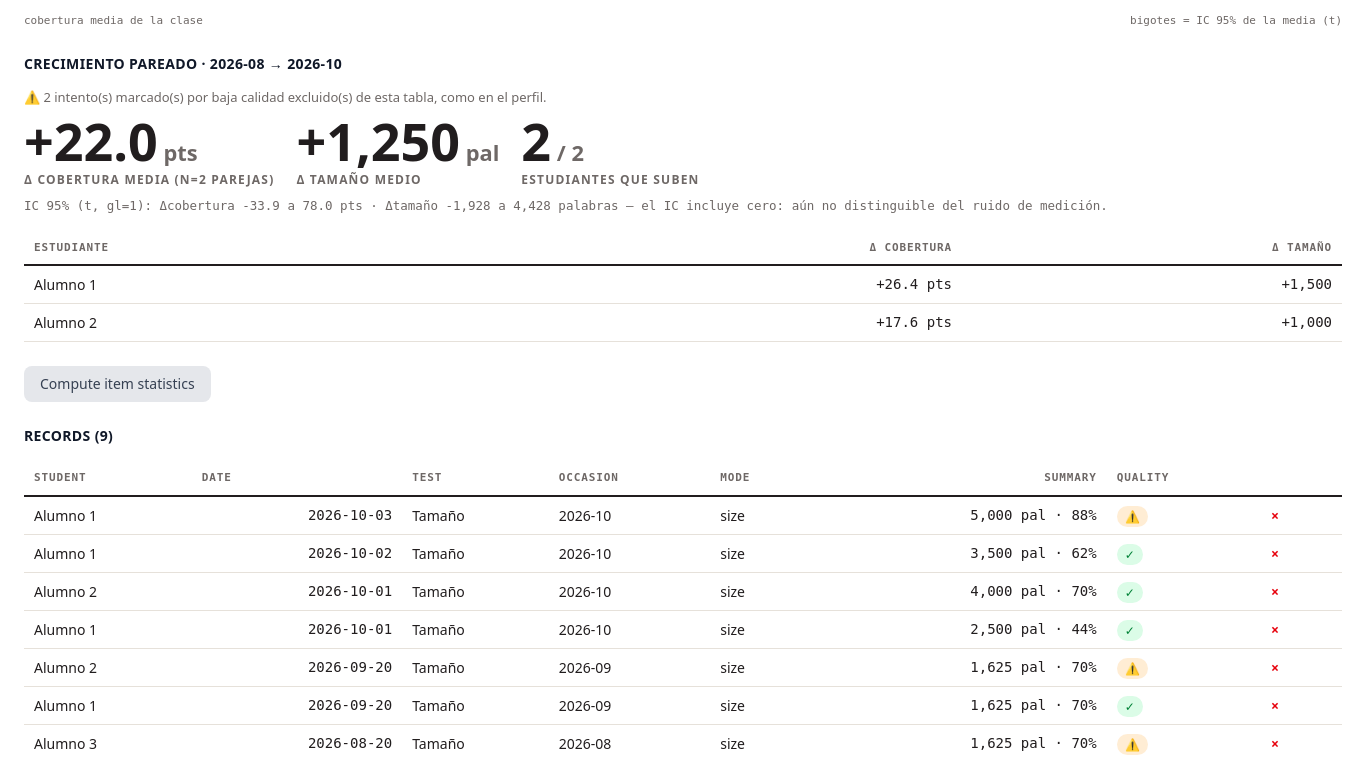
Test: VocabResultsPanel · nothing truncated silently › warns when item statistics had to leave older attempts out
(page scrolled)
What coordinates should you click on to do the following:
click the button "Compute item statistics"
I would click on:
 (117, 384)
Its box is x1=24 y1=366 x2=211 y2=402.
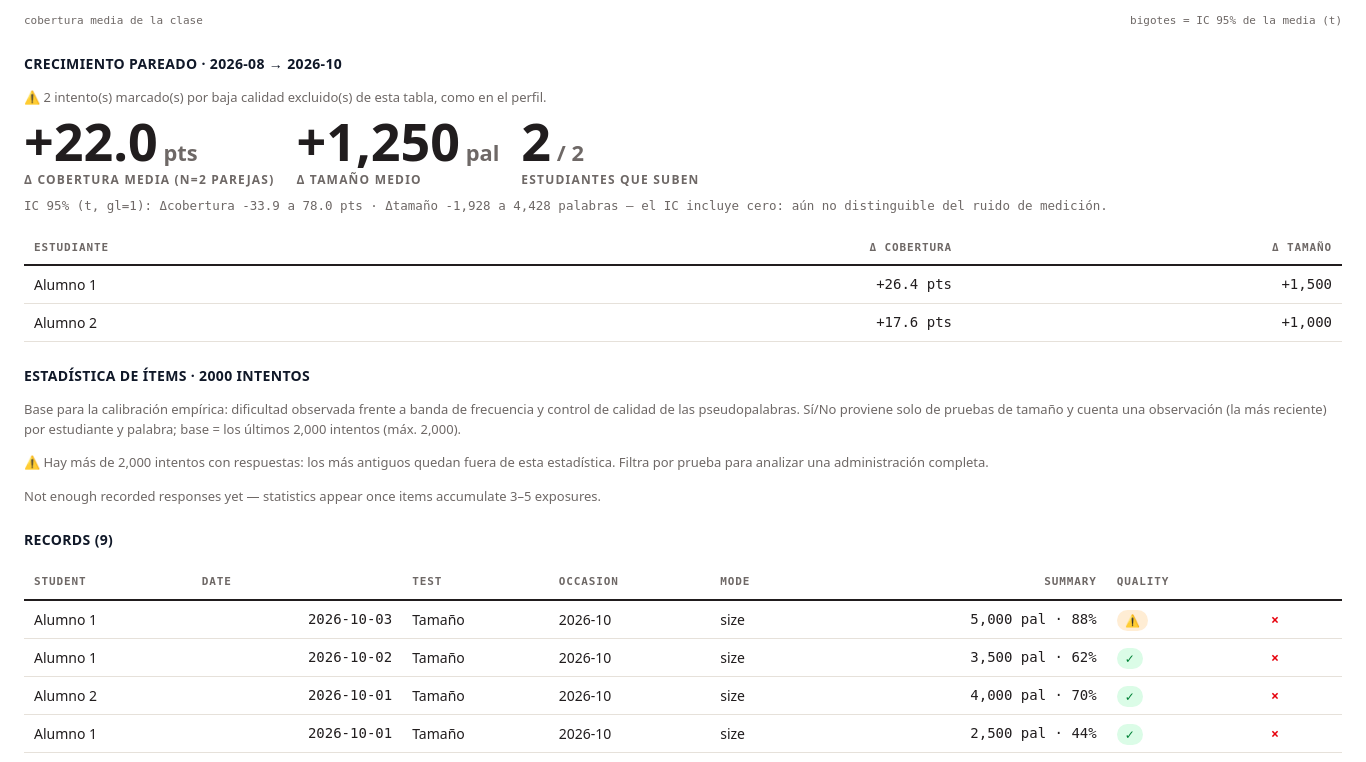
expect the text "Hay más de 2,000 intentos con respuestas" is shown: met, box x1=24 y1=453 x2=989 y2=471
